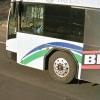Bus: (3, 0, 97, 85)
